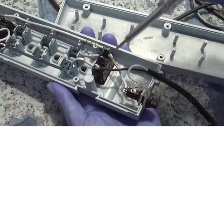three_eye_plug: (0, 0, 167, 122), (45, 0, 224, 92)
